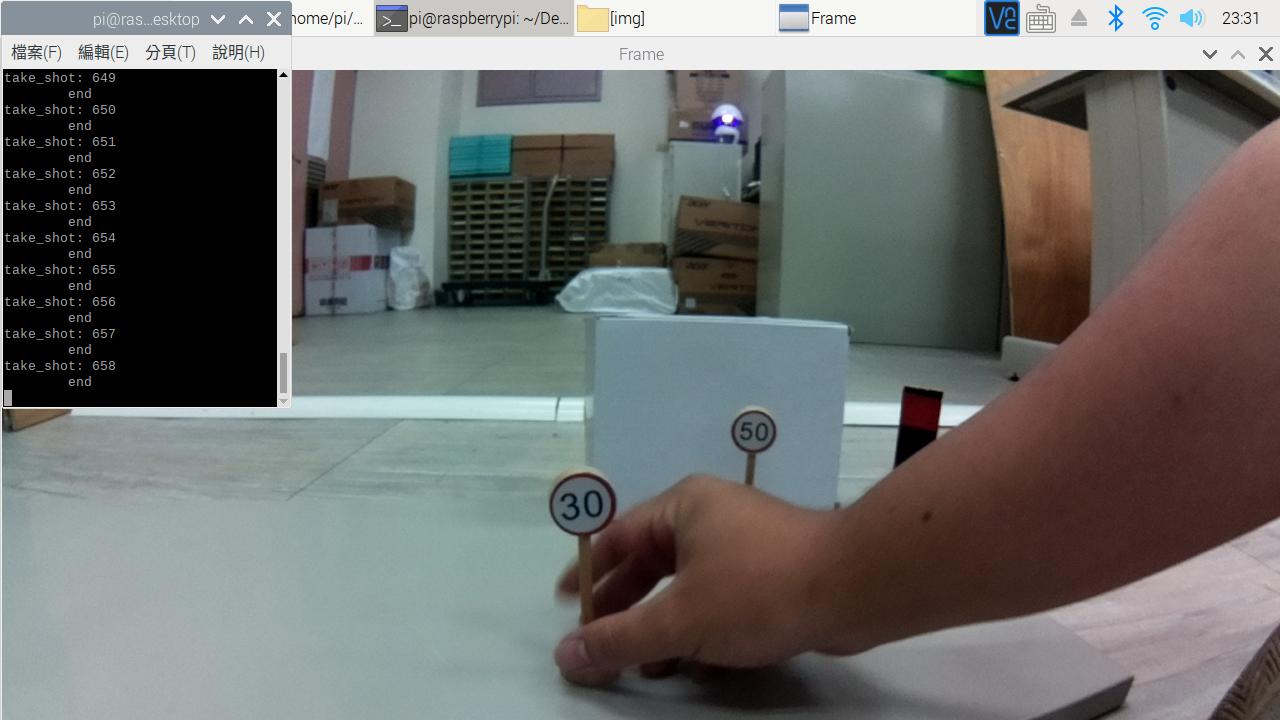Red: (885, 377, 943, 477)
Speed30: (540, 459, 626, 542)
Speed50: (726, 399, 794, 464)
